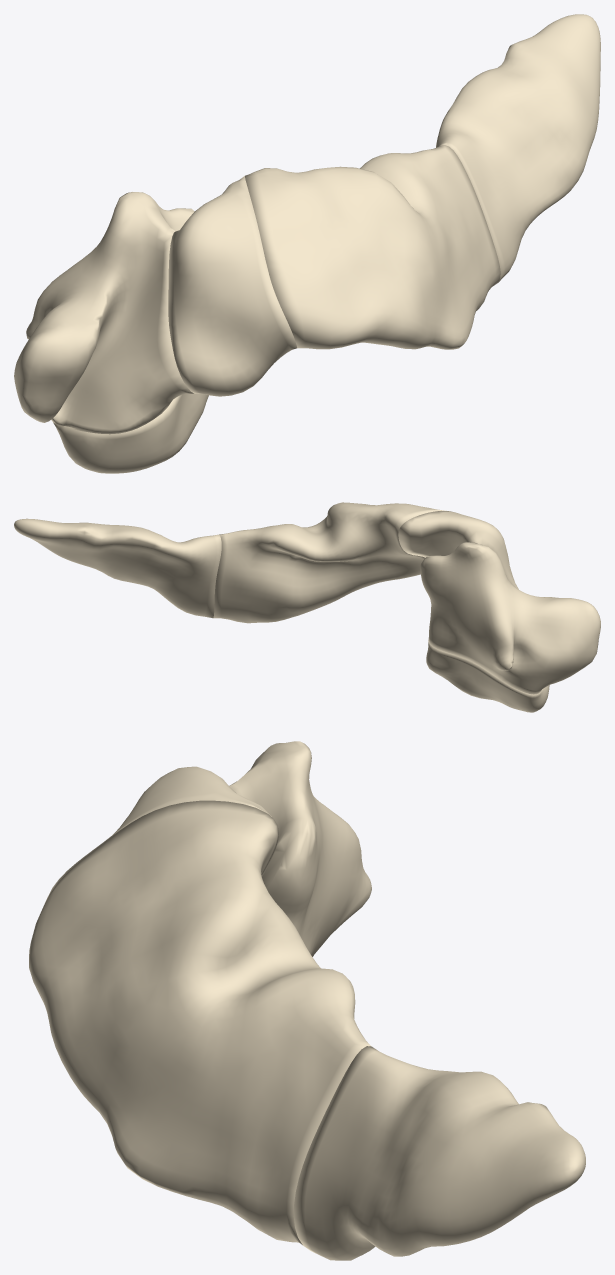
The model's file is vh_f_pancreas-100.glb.
The picture shows the model from 3 angles, top to bottom: view 1: azimuth 30°, elevation 25°; view 2: azimuth 150°, elevation 25°; view 3: azimuth 270°, elevation 25°; orthographic projection. The views are drawn at different scales.
Visible parts, largest first — view 1: VH_F_body_of_pancreas, VH_F_head_of_pancreas, VH_F_tail_of_pancreas, VH_F_neck_of_pancreas, VH_F_uncinate_process; view 2: VH_F_body_of_pancreas, VH_F_head_of_pancreas, VH_F_tail_of_pancreas, VH_F_neck_of_pancreas, VH_F_uncinate_process; view 3: VH_F_body_of_pancreas, VH_F_tail_of_pancreas, VH_F_head_of_pancreas, VH_F_neck_of_pancreas.
Part boxes in pixels (<box>): VH_F_body_of_pancreas: <box>245,145,500,349</box>; VH_F_head_of_pancreas: <box>14,192,194,434</box>; VH_F_tail_of_pancreas: <box>436,14,600,282</box>; VH_F_neck_of_pancreas: <box>168,176,296,396</box>; VH_F_uncinate_process: <box>53,393,208,473</box>; VH_F_body_of_pancreas: <box>213,502,449,623</box>; VH_F_head_of_pancreas: <box>420,542,600,694</box>; VH_F_tail_of_pancreas: <box>14,518,221,618</box>; VH_F_neck_of_pancreas: <box>398,511,518,589</box>; VH_F_uncinate_process: <box>426,642,549,712</box>; VH_F_body_of_pancreas: <box>29,800,371,1244</box>; VH_F_tail_of_pancreas: <box>293,1046,585,1260</box>; VH_F_head_of_pancreas: <box>229,741,371,956</box>; VH_F_neck_of_pancreas: <box>104,766,271,841</box>.
Bounding box in the file's own units: 0.1721 × 0.0579 × 0.0844.
